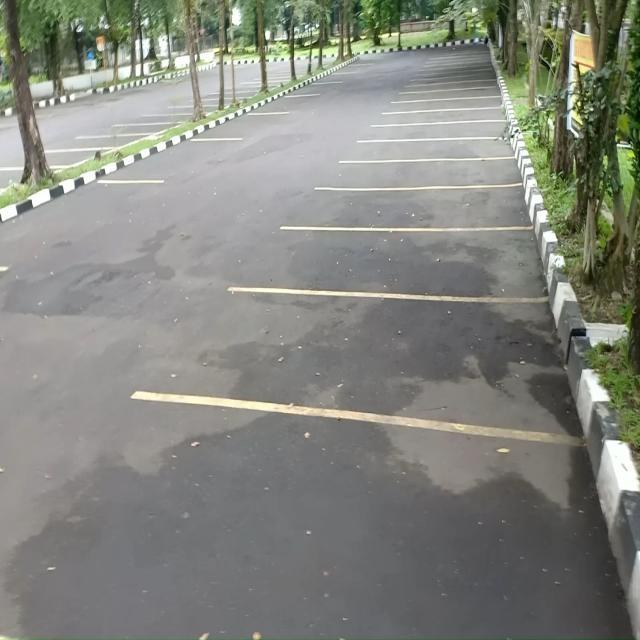empty: (232, 287, 561, 438), (283, 222, 546, 302), (318, 186, 530, 232), (340, 158, 521, 190), (358, 140, 516, 160), (149, 138, 219, 183), (372, 121, 510, 140), (214, 111, 266, 142), (384, 109, 506, 122), (268, 94, 316, 114), (290, 81, 341, 96)
